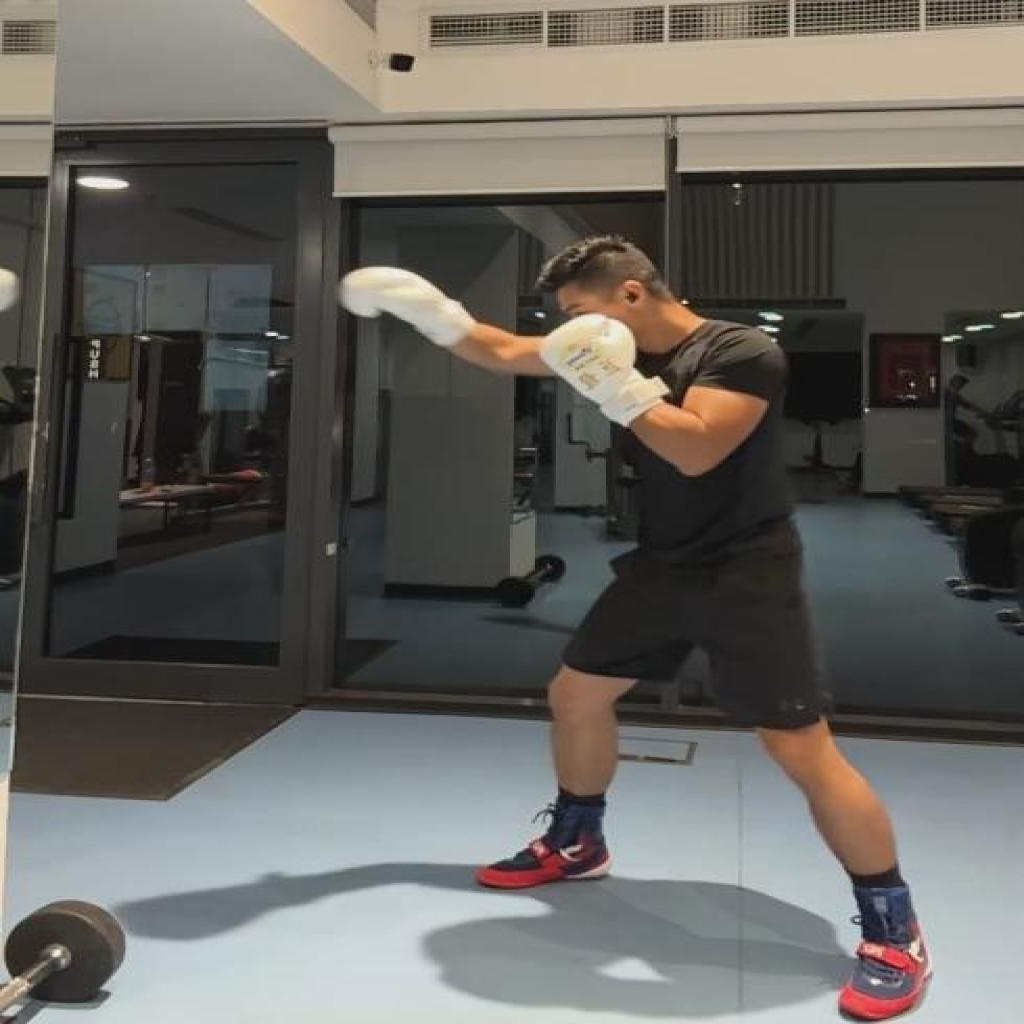jab: (334, 235, 938, 1024)
